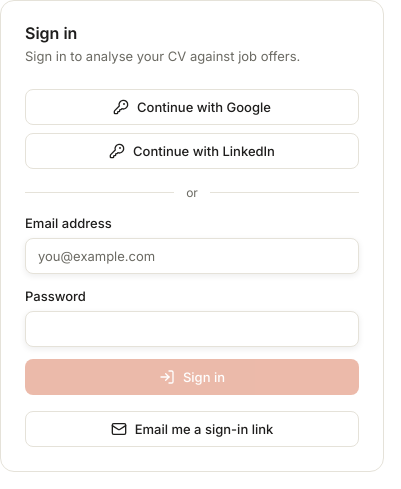
Test: SignInForm › disables the password sign-in button until a password is entered
The image size is (401, 489).
expect the button "Sign in" is disabled: met, box [25,359,359,395]
Type "a real password" into the password field labelled "Password" at (192, 329), box [25,311,359,347]
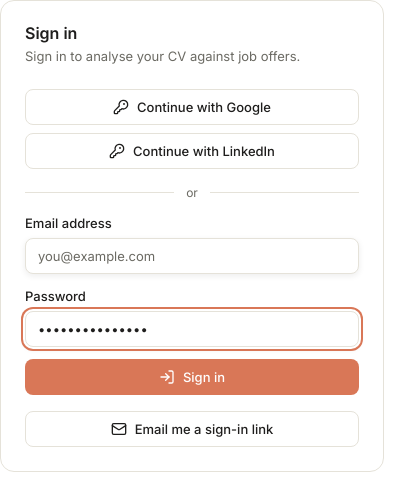
expect the button "Sign in" is enabled: met, box [25,359,359,395]
